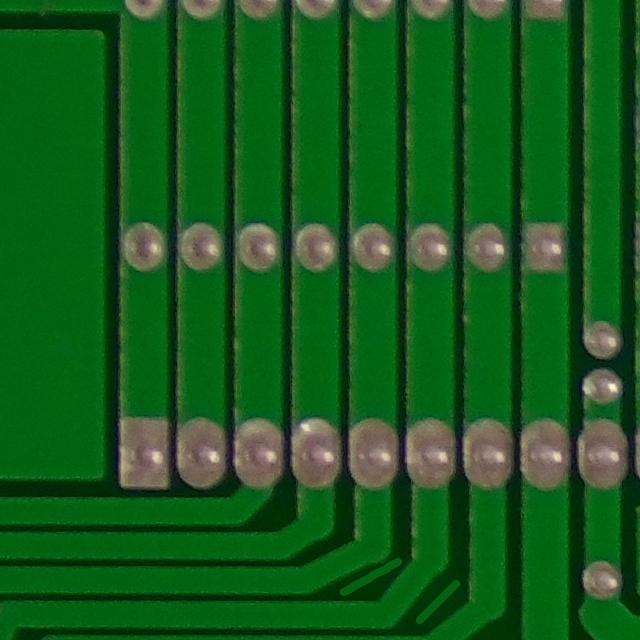spurious_copper: (330, 546, 406, 603), (404, 574, 475, 630)
